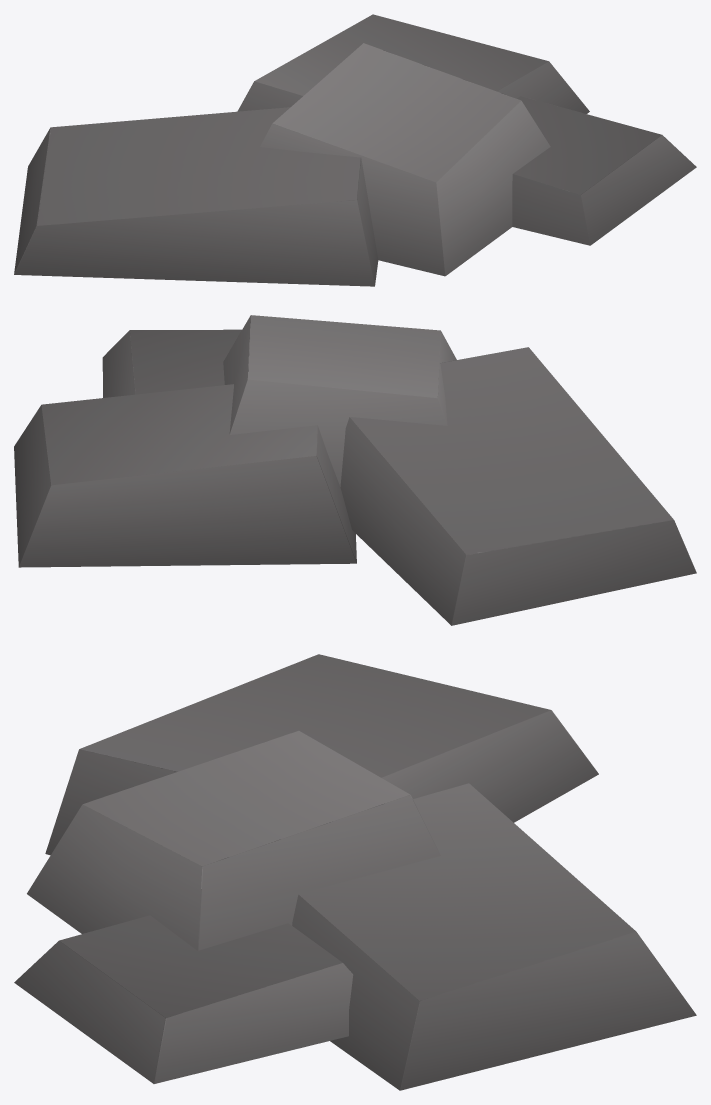
The model's file is rock_middle.glb.
3 views of the same model, one above another, from view 1: azimuth 30°, elevation 25°; view 2: azimuth 150°, elevation 25°; view 3: azimuth 270°, elevation 25° (orthographic). The views are drawn at different scales.
Parts seen in each view (by area): view 1: rocks.001; view 2: rocks.001; view 3: rocks.001.
Boxes of the visible parts, left/top/right/bottom form: rocks.001: left=14, top=14, right=696, bottom=286; rocks.001: left=14, top=315, right=696, bottom=625; rocks.001: left=14, top=654, right=696, bottom=1090.
Size of the model in its own units: 2.52 by 0.4659 by 1.86.
1 material, 1 textured.
